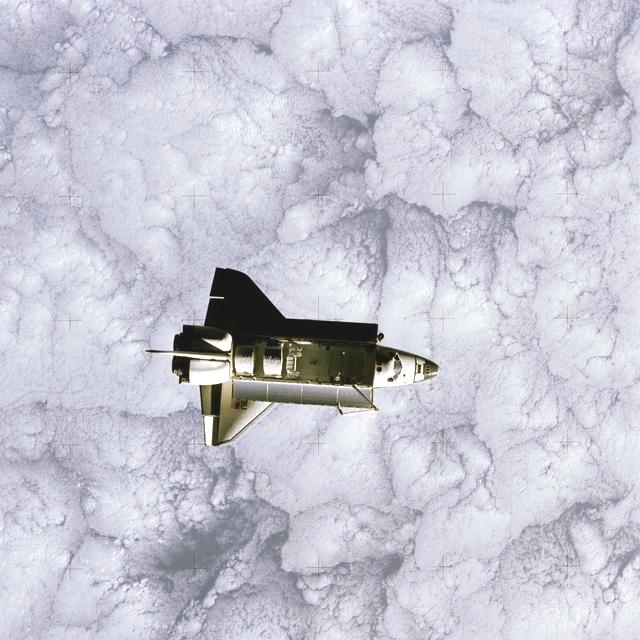satellite: (168, 268, 439, 448)
